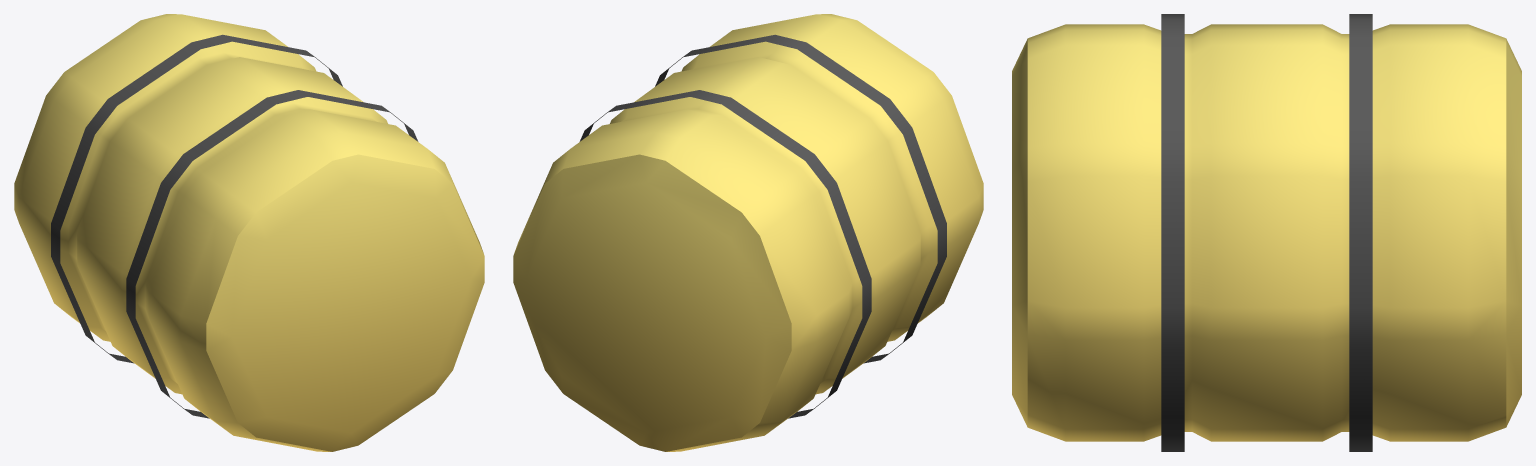
The model's file is feno.fbx.
The picture shows the model from 3 angles, left to right: view 1: azimuth 30°, elevation 25°; view 2: azimuth 150°, elevation 25°; view 3: azimuth 270°, elevation 25°; orthographic projection. The views are drawn at different scales.
Parts seen in each view (by area): view 1: Plastico do feno, Feno; view 2: Plastico do feno, Feno; view 3: Plastico do feno, Feno.
Part boxes in pixels (bbox=[...]): Plastico do feno: bbox=[14, 14, 484, 451]; Feno: bbox=[51, 34, 418, 418]; Plastico do feno: bbox=[513, 14, 983, 451]; Feno: bbox=[579, 34, 946, 418]; Plastico do feno: bbox=[1012, 24, 1521, 441]; Feno: bbox=[1161, 14, 1372, 451].
Size of the model in its own units: 202 by 202 by 229.
2 materials, 2 textured.
